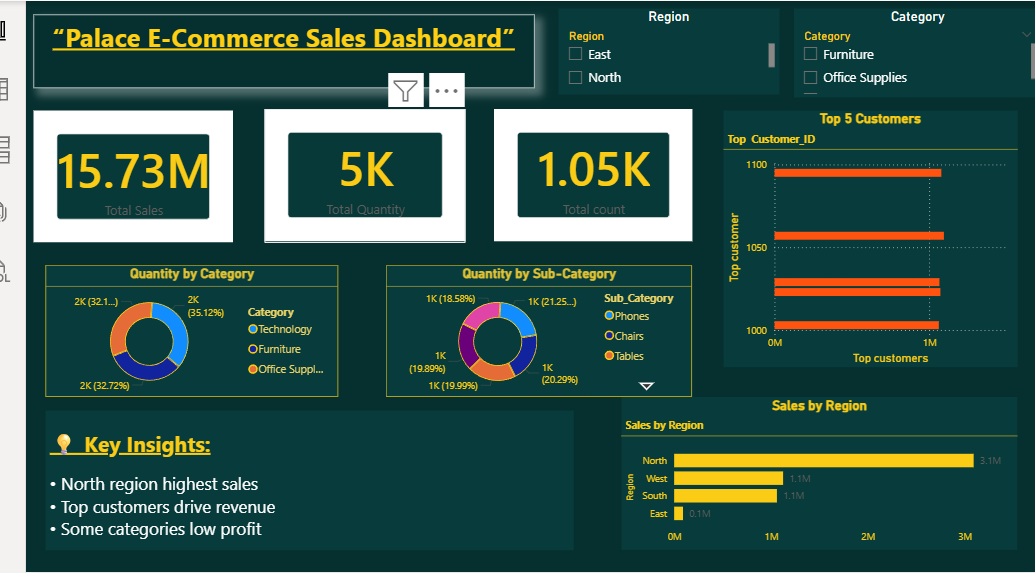

What the dashboard file says about the page in this screenshot:
{"tool":"powerbi","page":{"name":"Page 1","canvas":[1280,720],"ordinal":0},"visuals":[{"type":"textbox","box":[9.4,17,631.2,92.6],"z":0},{"type":"cardVisual","fields":{"Data":["Sum(sales_data.Sales)"]},"box":[9.4,138,251.3,166.3],"z":1000},{"type":"cardVisual","fields":{"Data":["Sum(sales_data.Quantity)"]},"box":[300,136.7,253.3,166.7],"z":2000},{"type":"cardVisual","fields":{"Data":["CountNonNull(sales_data.Order_ID)"]},"box":[590,136.7,250,166.7],"z":3000},{"type":"donutChart","title":"Quantity by Category","fields":{"Category":["sales_data.Category"],"Y":["Sum(sales_data.Quantity)"]},"box":[24.6,332.6,368.5,166.3],"z":4000},{"type":"donutChart","title":"Quantity by Sub-Category","fields":{"Category":["sales_data.Sub_Category","sales_data.Category"],"Y":["Sum(sales_data.Quantity)"]},"box":[453.5,332.6,385.5,166.3],"z":5000},{"type":"barChart","title":"Top 5 Customers ","fields":{"Category":["sales_data.Customer_ID"],"Y":["Sum(sales_data.Sales)"]},"box":[878.7,138,370.4,323.2],"z":6000},{"type":"barChart","title":"Sales by Region","fields":{"Y":["Sum(sales_data.Sales)"],"Category":["sales_data.Region"]},"box":[750.2,498.9,498.9,192.8],"z":6001},{"type":"slicer","title":"Region","fields":{"Values":["sales_data.Region"]},"box":[670.9,9.4,277.8,107.7],"z":6002},{"type":"slicer","title":"Category","fields":{"Values":["sales_data.Category"]},"box":[967.6,9.4,311.8,111.5],"z":6003},{"type":"textbox","box":[24.6,515.9,665.2,175.7],"z":6004}]}

Visuals, with their boxes on the page's 1280x720 design canvas (x1, y1, x2, y2). These are canvas units, not pixel positions in the 1035x573 screenshot, which may show the page scaled, cropped or inside an application window:
textbox: 9 17 641 110
cardVisual - Sum(sales_data.Sales): 9 138 261 304
cardVisual - Sum(sales_data.Quantity): 300 137 553 303
cardVisual - CountNonNull(sales_data.Order_ID): 590 137 840 303
"Quantity by Category" donutChart: 25 333 393 499
"Quantity by Sub-Category" donutChart: 454 333 839 499
"Top 5 Customers " barChart: 879 138 1249 461
"Sales by Region" barChart: 750 499 1249 692
"Region" slicer: 671 9 949 117
"Category" slicer: 968 9 1279 121
textbox: 25 516 690 692
